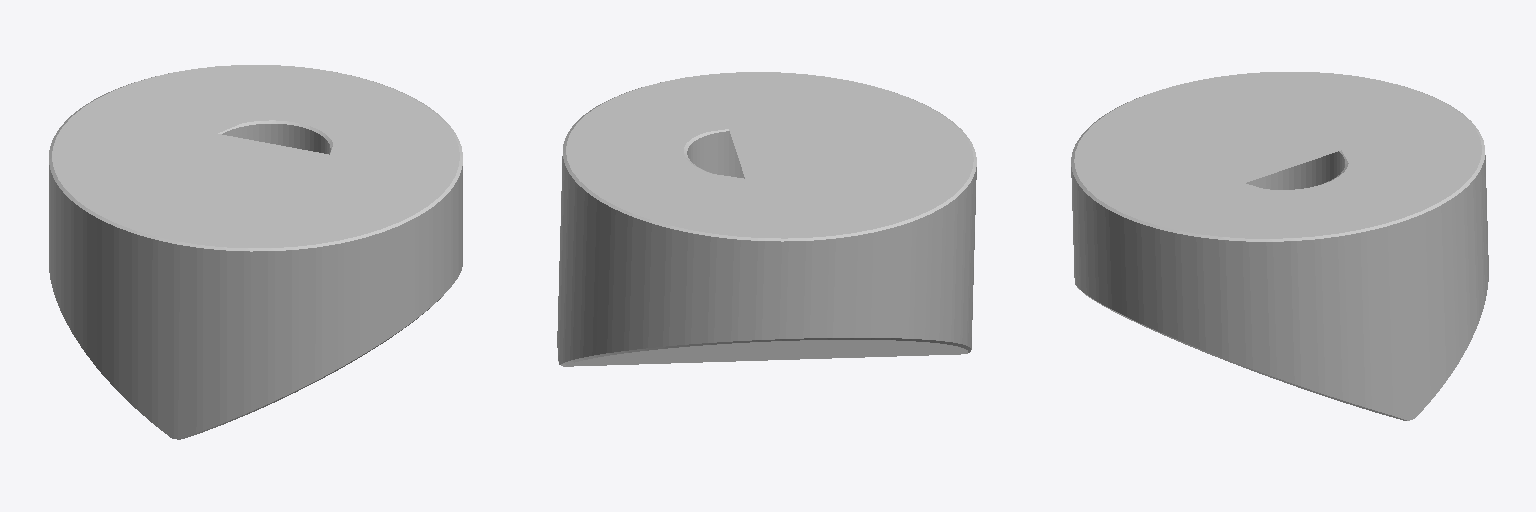
Rendered from prizma1.obj.
The picture shows the model from 3 angles: view 1: azimuth 30°, elevation 25°; view 2: azimuth 150°, elevation 25°; view 3: azimuth 270°, elevation 25°; orthographic projection.
Visible parts, largest first — view 1: Cylinder.008_Cylinder.004; view 2: Cylinder.008_Cylinder.004; view 3: Cylinder.008_Cylinder.004.
Part boxes in pixels (bbox=[...]): Cylinder.008_Cylinder.004: bbox=[49, 65, 462, 439]; Cylinder.008_Cylinder.004: bbox=[557, 72, 976, 366]; Cylinder.008_Cylinder.004: bbox=[1071, 72, 1488, 420].
Bounding box in the file's own units: 0.2143 × 0.1204 × 0.2151.